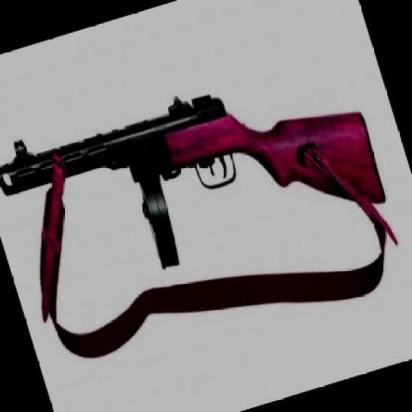Gun: (3, 75, 392, 354)
